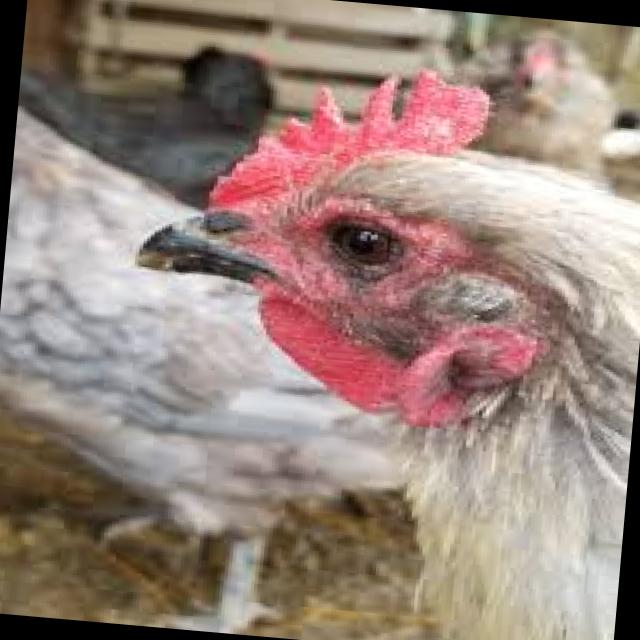Fowlpox: (114, 168, 304, 294)
